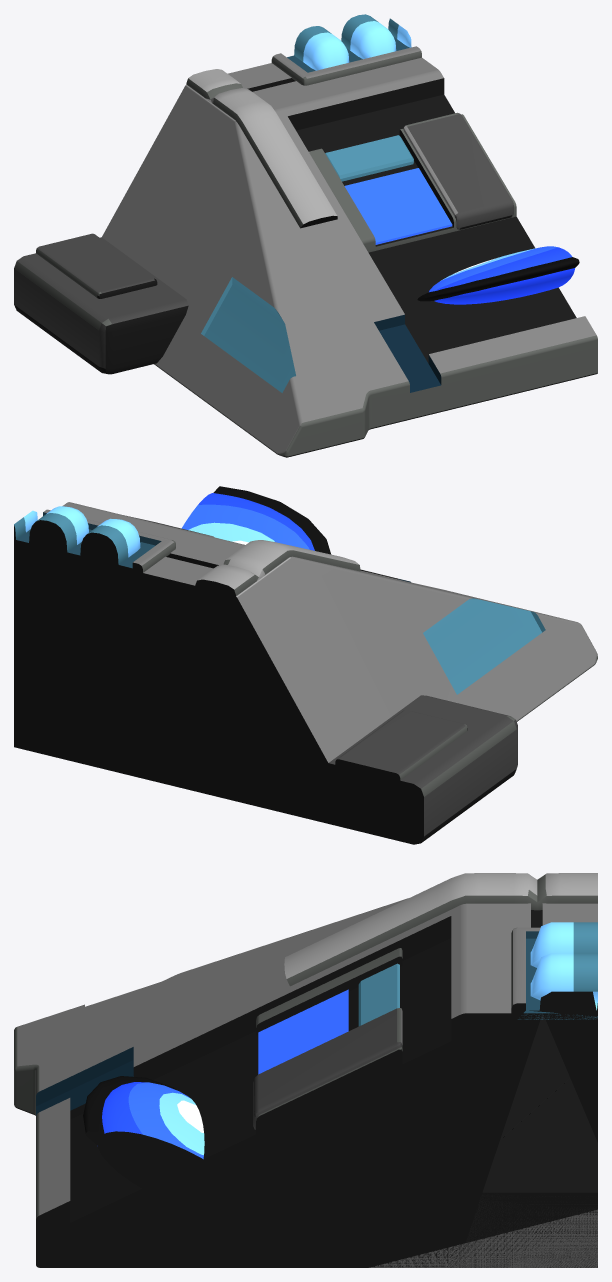
Rendered from ice_bunker_bl.glb.
3 renders of one model, top to bottom at view 1: azimuth 30°, elevation 25°; view 2: azimuth 150°, elevation 25°; view 3: azimuth 270°, elevation 25°, orthographic. The views are drawn at different scales.
Visible parts, largest first — view 1: ice_bunker_bl; view 2: ice_bunker_bl; view 3: ice_bunker_bl.
Boxes of the visible parts, x1=… form: ice_bunker_bl: x1=14, y1=14, x2=597, y2=457; ice_bunker_bl: x1=14, y1=486, x2=597, y2=844; ice_bunker_bl: x1=14, y1=873, x2=597, y2=1267.
Bounding box in the file's own units: 24 × 13.12 × 23.9.
